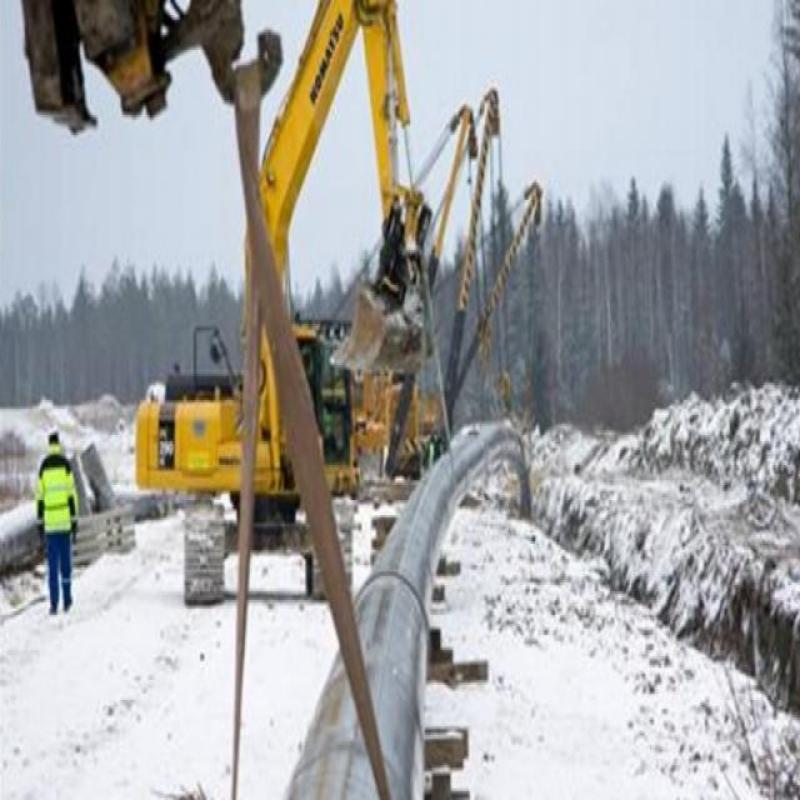Healthy: (222, 309, 556, 776)
